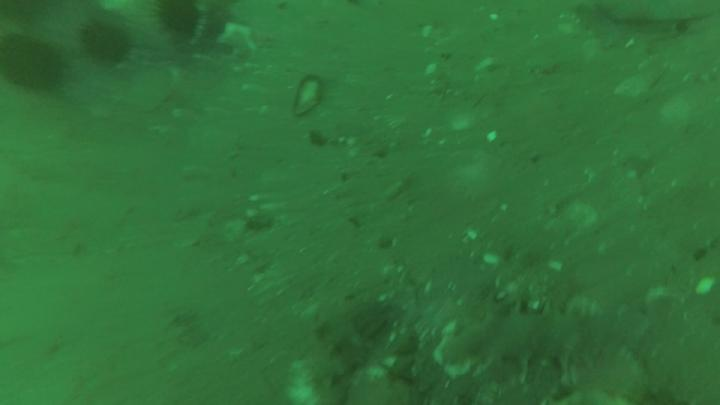echinus: (1, 23, 80, 98), (152, 2, 243, 52), (72, 12, 143, 72)
holothurian: (436, 290, 658, 391)
starfish: (214, 22, 267, 68)
